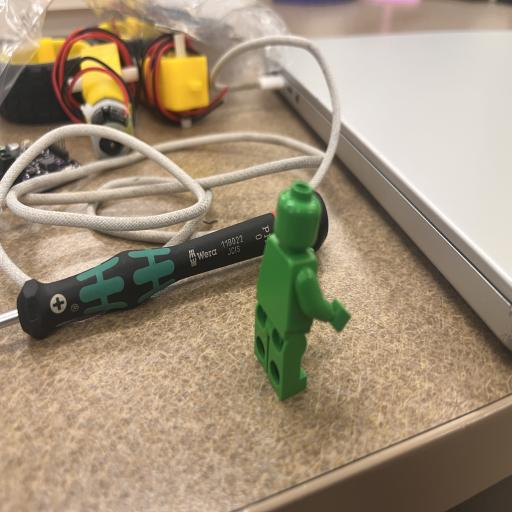Lego-Minifig: (254, 181, 350, 399), (292, 342, 297, 363)
